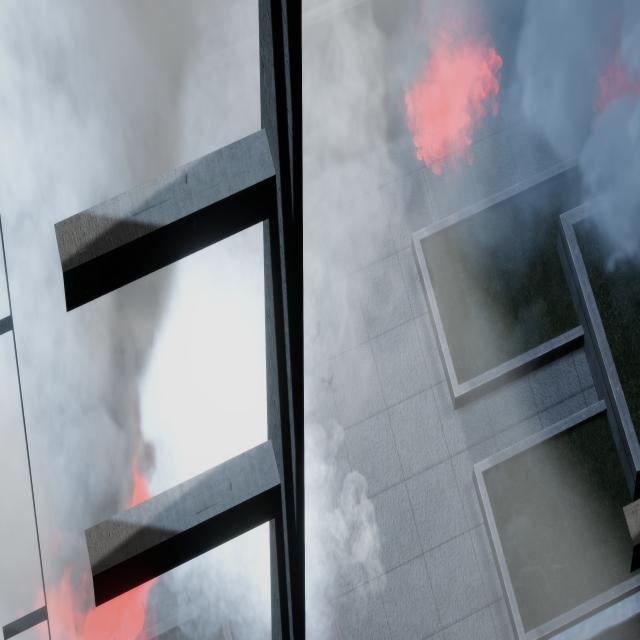Human: (290, 358, 338, 399)
